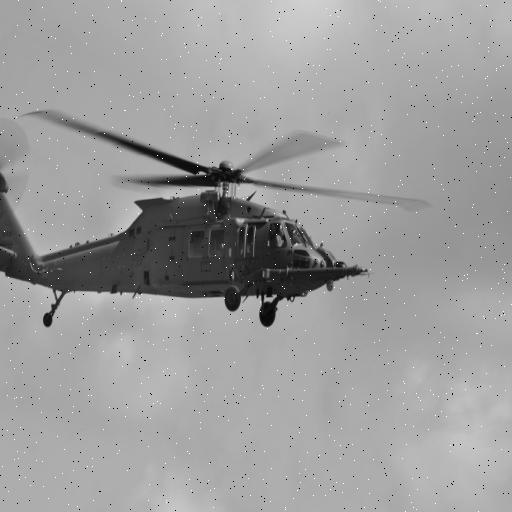helicopter: (1, 110, 430, 328)
